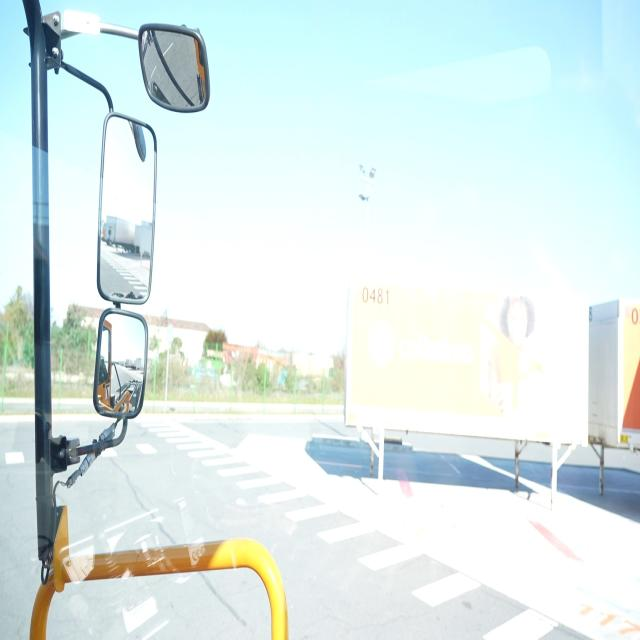Code: (358, 281, 393, 311)
